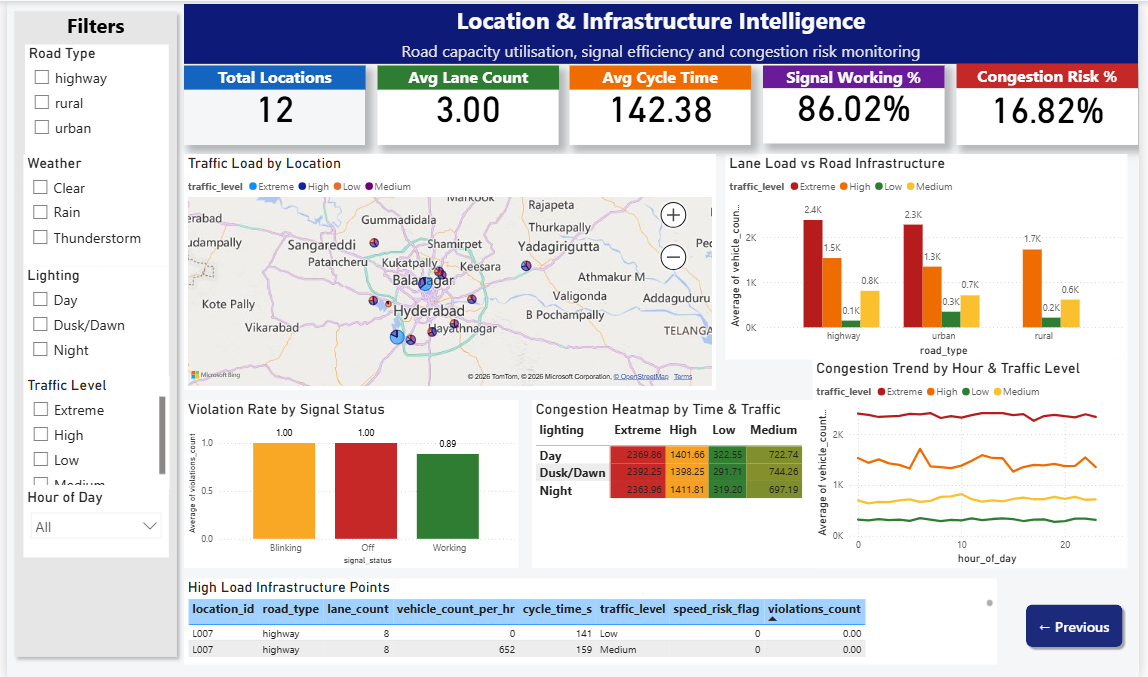

This screenshot's page, from the dashboard's own definition file:
{"tool":"powerbi","page":{"name":"Location & Infrastructure Analytics","canvas":[1500,900],"ordinal":3},"visuals":[{"type":"card","title":"Signal Working %","fields":{"Values":["traffic_cleaned_dataset.Signal Working %"]},"box":[1002.1,83.5,240.6,105.4],"z":0},{"type":"card","title":"Congestion Risk %","fields":{"Values":["traffic_cleaned_dataset.Congestion Risk %"]},"box":[1258.6,85.5,240.6,105.4],"z":1000},{"type":"card","fields":{"Values":["traffic_cleaned_dataset.Total Locations"]},"box":[234.6,85.5,240,105],"z":2000},{"type":"card","title":"Avg Lane Count","fields":{"Values":["traffic_cleaned_dataset.Avg Lane Count"]},"box":[490.5,85.5,240,105],"z":3000},{"type":"columnChart","title":"Violation Rate by Signal Status","fields":{"Category":["traffic_cleaned_dataset.signal_status"],"Y":["Avg(traffic_cleaned_dataset.violations_count)"]},"box":[234.6,528.9,443.4,222.7],"z":4000},{"type":"shape","box":[0,4,234.6,874.8],"z":5000},{"type":"slicer","title":"Weather","fields":{"Values":["traffic_cleaned_dataset.weather"]},"box":[21.9,202.8,192.9,149.1],"z":6000},{"type":"slicer","title":"Road Type","fields":{"Values":["traffic_cleaned_dataset.road_type"]},"box":[23.9,57.7,190.9,145.1],"z":7000},{"type":"slicer","title":"Traffic Level","fields":{"Values":["traffic_cleaned_dataset.traffic_level"]},"box":[21.9,497.1,192.9,149.1],"z":8000},{"type":"slicer","title":"Hour of Day","fields":{"Values":["traffic_cleaned_dataset.hour_of_day"]},"box":[21.9,646.2,192.9,91.5],"z":9000},{"type":"shape","title":"Location & Infrastructure Intelligence","box":[234.6,4,1264.5,79.5],"z":10000},{"type":"slicer","title":"Lighting","fields":{"Values":["traffic_cleaned_dataset.lighting"]},"box":[21.9,351.9,192.9,145.1],"z":11000},{"type":"clusteredColumnChart","title":"Lane Load vs Road Infrastructure","fields":{"Category":["traffic_cleaned_dataset.road_type"],"Y":["Avg(traffic_cleaned_dataset.vehicle_count_per_hr)"],"Series":["traffic_cleaned_dataset.traffic_level"]},"box":[952.4,202.8,532.9,272.4],"z":12000},{"type":"tableEx","title":"High Load Infrastructure Points","fields":{"Values":["traffic_cleaned_dataset.location_id","traffic_cleaned_dataset.road_type","traffic_cleaned_dataset.lane_count","traffic_cleaned_dataset.vehicle_count_per_hr","traffic_cleaned_dataset.cycle_time_s","traffic_cleaned_dataset.traffic_level","traffic_cleaned_dataset.speed_risk_flag","traffic_cleaned_dataset.violations_count"]},"box":[234.6,765.5,1077.6,113.3],"z":13000},{"type":"card","title":"Avg Cycle Time","fields":{"Values":["traffic_cleaned_dataset.Avg Cycle Time"]},"box":[746.3,85.5,240,105],"z":14000},{"type":"pivotTable","title":"Congestion Heatmap by Time & Traffic","fields":{"Rows":["traffic_cleaned_dataset.lighting"],"Values":["Avg(traffic_cleaned_dataset.vehicle_count_per_hr)"],"Columns":["traffic_cleaned_dataset.traffic_level"]},"box":[695.9,528.9,371.8,222.7],"z":15000},{"type":"map","title":"Traffic Load by Location","fields":{"Y":["traffic_cleaned_dataset.latitude"],"X":["traffic_cleaned_dataset.longitude"],"Size":["Sum(traffic_cleaned_dataset.vehicle_count_per_hr)"],"Series":["traffic_cleaned_dataset.traffic_level"]},"box":[234.6,202.8,703.8,312.2],"z":16000},{"type":"shape","title":"Total Locations","box":[234.6,85.5,240.6,31.8],"z":17000},{"type":"shape","title":"Congestion Risk %","box":[1258.6,83.5,240.6,31.8],"z":18000},{"type":"shape","title":"Signal Working %","box":[1002.1,85.5,240.6,29.8],"z":19000},{"type":"shape","title":"Avg Cycle Time","box":[745.6,85.5,240.6,31.8],"z":20000},{"type":"shape","title":"Avg Lane Count","box":[491.1,85.5,240.6,31.8],"z":21000},{"type":"lineChart","title":"Congestion Trend by Hour & Traffic Level","fields":{"Category":["traffic_cleaned_dataset.hour_of_day"],"Y":["Avg(traffic_cleaned_dataset.vehicle_count_per_hr)"],"Series":["traffic_cleaned_dataset.traffic_level"]},"box":[1067.7,475.2,417.5,276.4],"z":22000},{"type":"actionButton","box":[1344.1,793.3,141.2,69.6],"z":23000}]}

Visuals, with their boxes in screenshot pixels (x1, y1, x2, y2), scaled from the page's 1500x900 canvas onto the 1148x677 screenshot:
"Signal Working %" card: l=767, t=63, r=951, b=142
"Congestion Risk %" card: l=963, t=64, r=1147, b=144
card - traffic_cleaned_dataset.Total Locations: l=180, t=64, r=363, b=143
"Avg Lane Count" card: l=375, t=64, r=559, b=143
"Violation Rate by Signal Status" columnChart: l=180, t=398, r=519, b=565
shape: l=0, t=3, r=180, b=661
"Weather" slicer: l=17, t=153, r=164, b=265
"Road Type" slicer: l=18, t=43, r=164, b=153
"Traffic Level" slicer: l=17, t=374, r=164, b=486
"Hour of Day" slicer: l=17, t=486, r=164, b=555
"Location & Infrastructure Intelligence" shape: l=180, t=3, r=1147, b=63
"Lighting" slicer: l=17, t=265, r=164, b=374
"Lane Load vs Road Infrastructure" clusteredColumnChart: l=729, t=153, r=1137, b=357
"High Load Infrastructure Points" tableEx: l=180, t=576, r=1004, b=661
"Avg Cycle Time" card: l=571, t=64, r=755, b=143
"Congestion Heatmap by Time & Traffic" pivotTable: l=533, t=398, r=817, b=565
"Traffic Load by Location" map: l=180, t=153, r=718, b=387
"Total Locations" shape: l=180, t=64, r=364, b=88
"Congestion Risk %" shape: l=963, t=63, r=1147, b=87
"Signal Working %" shape: l=767, t=64, r=951, b=87
"Avg Cycle Time" shape: l=571, t=64, r=755, b=88
"Avg Lane Count" shape: l=376, t=64, r=560, b=88
"Congestion Trend by Hour & Traffic Level" lineChart: l=817, t=357, r=1137, b=565
actionButton: l=1029, t=597, r=1137, b=649
